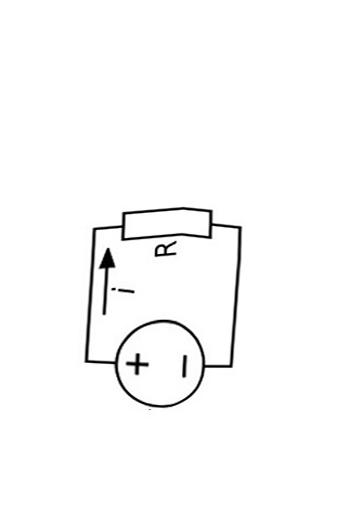Battery: (95, 309, 216, 419)
